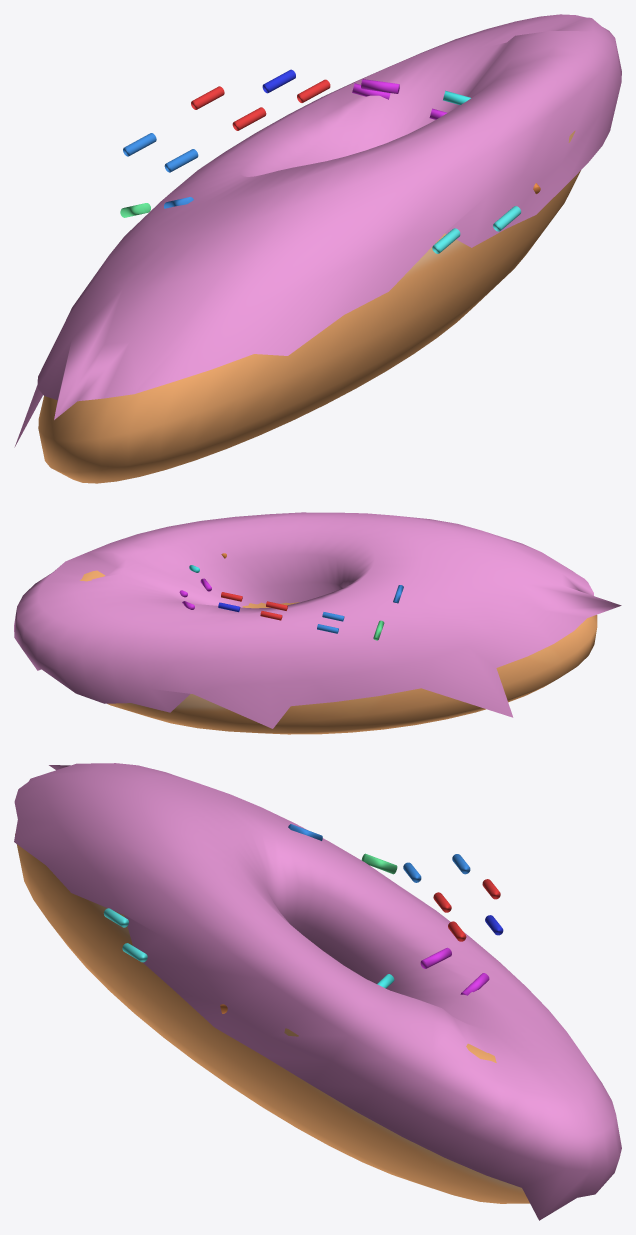
The model's file is uploads_files_3791858_Donut+Project.glb.
The picture shows the model from 3 angles, top to bottom: view 1: azimuth 30°, elevation 25°; view 2: azimuth 150°, elevation 25°; view 3: azimuth 270°, elevation 25°; orthographic projection. The views are drawn at different scales.
Parts seen in each view (by area): view 1: Torus.002, Torus.001, Cylinder; view 2: Torus.002, Torus.001, Cylinder; view 3: Torus.002, Torus.001, Cylinder.
Part boxes in pixels (<box>): Torus.002: <box>14,14,621,447</box>; Torus.001: <box>38,130,580,483</box>; Cylinder: <box>120,69,540,253</box>; Torus.002: <box>14,512,621,728</box>; Torus.001: <box>80,570,597,734</box>; Cylinder: <box>179,553,403,640</box>; Torus.002: <box>14,763,621,1220</box>; Torus.001: <box>15,834,529,1203</box>; Cylinder: <box>103,824,503,1013</box>.
Size of what is drawn, in the model's own units: 0.6322 by 0.213 by 0.4333.
11 materials, 1 textured.
